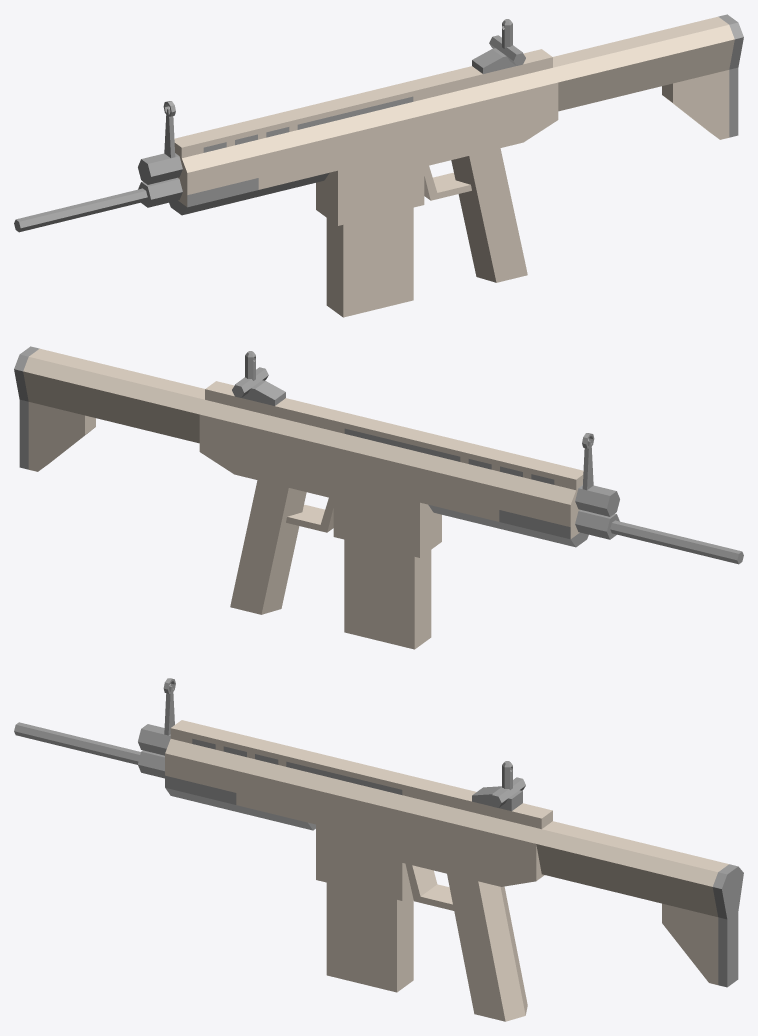
File: Scar.fbx
3 renders of one model, top to bottom at view 1: azimuth 30°, elevation 25°; view 2: azimuth 150°, elevation 25°; view 3: azimuth 330°, elevation 25°, orthographic.
Visible parts, largest first — view 1: Gun, Mag; view 2: Gun, Mag; view 3: Gun, Mag.
Boxes of the visible parts, x1,y1,x2,y2 form: Gun: (14, 14, 743, 282); Mag: (326, 207, 413, 317); Gun: (14, 346, 743, 614); Mag: (344, 539, 431, 649); Gun: (14, 678, 743, 1021); Mag: (326, 882, 413, 992).
Bounding box in the file's own units: 0.617 × 0.2062 × 0.0366.
